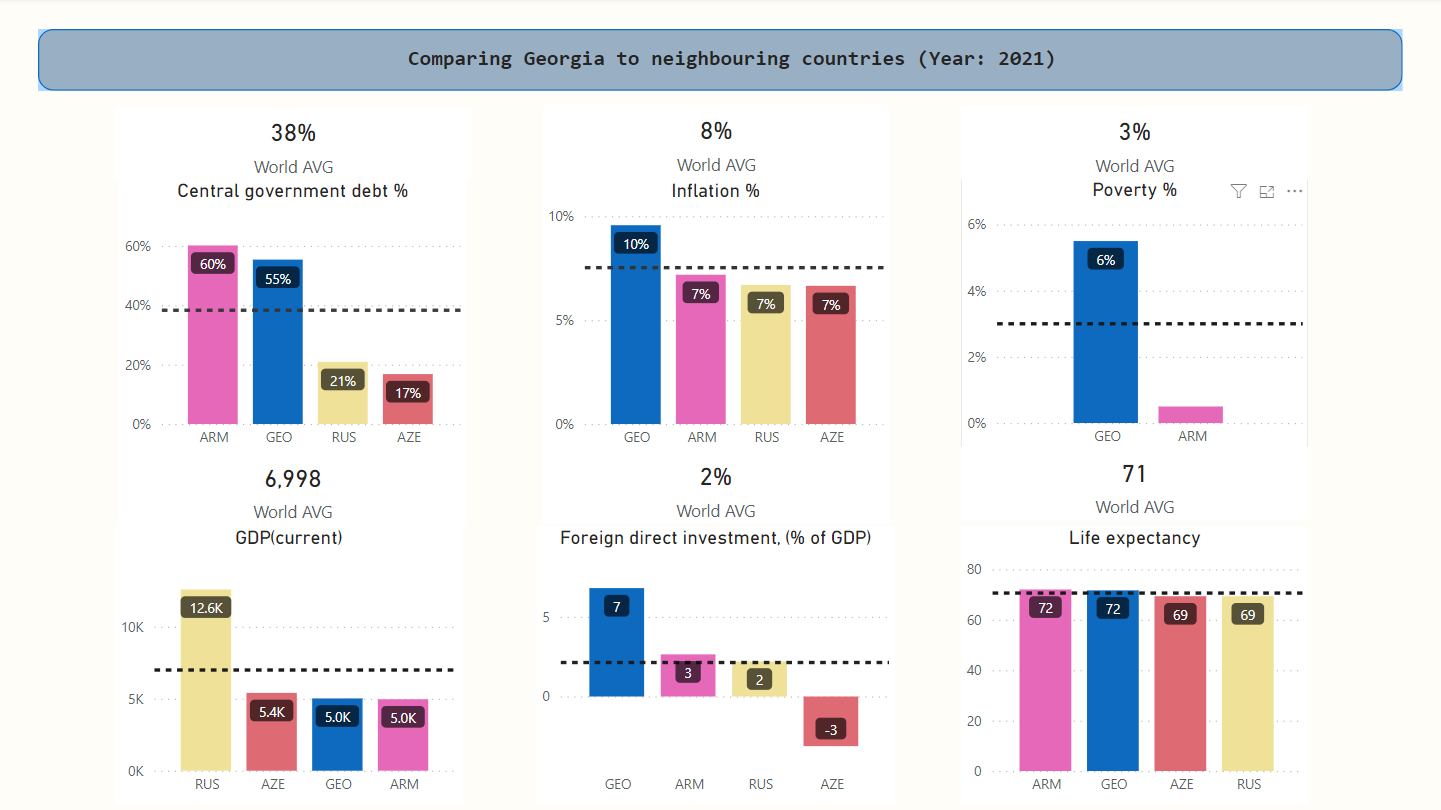

The dashboard page shown, as its layout file describes it:
{"tool":"powerbi","page":{"name":"Georgia and Neighbours","canvas":[1280,720],"ordinal":1},"visuals":[{"type":"columnChart","title":"Central government debt %","fields":{"Category":["Metadata - Countries.Country Code"],"Y":["Sum(Central government debt, total (% of GDP).Percentage)"]},"box":[106.4,160.9,308.2,247.3],"z":0},{"type":"columnChart","title":" Inflation % ","fields":{"Category":["Metadata - Countries.Country Code"],"Y":["Sum(Inflation, consumer prices (annual %).Inflation, consumer prices %)"]},"box":[481.8,160.9,308.2,247.3],"z":1000},{"type":"clusteredColumnChart","title":"GDP(current)","fields":{"Category":["Metadata - Countries.Country Code"],"Y":["Sum(GDP per capita (current US$).GDP per capita)"]},"box":[102.7,468.2,308,247],"z":2000},{"type":"clusteredColumnChart","title":"Foreign direct investment, (% of GDP)","fields":{"Category":["Metadata - Countries.Country Code"],"Y":["Sum(Foreign direct investment, net inflows (% of GDP).Foreign direct investment %)"]},"box":[476.4,468.2,318.2,247.3],"z":3000},{"type":"clusteredColumnChart","title":"Poverty %","fields":{"Category":["Metadata - Countries.Country Code"],"Y":["Sum(Poverty rate % of population.Poverty rate % of population)"]},"box":[852.7,160,308.2,247.3],"z":4000},{"type":"clusteredColumnChart","title":"Life expectancy","fields":{"Category":["Metadata - Countries.Country Code"],"Y":["Sum(Life expectansy total.Life expectansy total)"]},"box":[852.7,468.2,308.2,247.3],"z":5000},{"type":"card","fields":{"Values":["1)Measures.Central govenment dept % (AVG)"]},"box":[102.7,96.4,316.4,64.5],"z":6000},{"type":"card","fields":{"Values":["1)Measures.Inflation % (AVG)"]},"box":[482.7,94.5,307.3,64.5],"z":7000},{"type":"card","fields":{"Values":["1)Measures.Poverty %"]},"box":[852.7,95.5,308.2,64.5],"z":8000},{"type":"card","fields":{"Values":["1)Measures.GDP(current) AVG"]},"box":[106.4,402.7,308.2,65.5],"z":9000},{"type":"card","fields":{"Values":["1)Measures.Foreign direct investment (AVG)"]},"box":[481.8,401.8,308.2,64.5],"z":10000},{"type":"card","fields":{"Values":["1)Measures.Life expectancy (AVG)"]},"box":[852.7,398.2,308.2,65.5],"z":11000},{"type":"shape","box":[34.5,27.3,1210,54.5],"z":12000},{"type":"textbox","box":[158.4,37.4,983.5,44.6],"z":13000}]}

Visuals, with their boxes in screenshot pixels (x1, y1, x2, y2), scaled from the page's 1280x720 canvas onto the 1441x810 screenshot:
"Central government debt %" columnChart: (120, 181, 467, 459)
" Inflation % " columnChart: (542, 181, 889, 459)
"GDP(current)" clusteredColumnChart: (116, 527, 462, 805)
"Foreign direct investment, (% of GDP)" clusteredColumnChart: (536, 527, 895, 805)
"Poverty %" clusteredColumnChart: (960, 180, 1307, 458)
"Life expectancy" clusteredColumnChart: (960, 527, 1307, 805)
card - 1)Measures.Central govenment dept % (AVG): (116, 108, 472, 181)
card - 1)Measures.Inflation % (AVG): (543, 106, 889, 179)
card - 1)Measures.Poverty %: (960, 107, 1307, 180)
card - 1)Measures.GDP(current) AVG: (120, 453, 467, 527)
card - 1)Measures.Foreign direct investment (AVG): (542, 452, 889, 525)
card - 1)Measures.Life expectancy (AVG): (960, 448, 1307, 522)
shape: (39, 31, 1401, 92)
textbox: (178, 42, 1286, 92)
